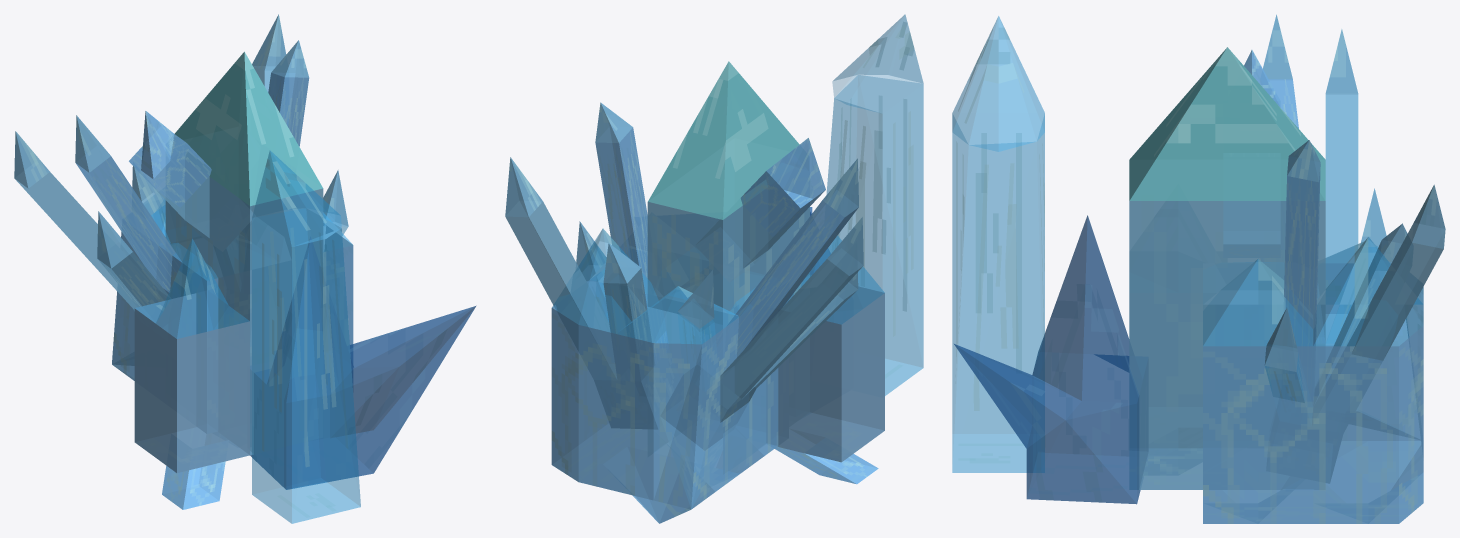
Rendered from crystal.glb.
3 renders of one model, left to right at view 1: azimuth 30°, elevation 25°; view 2: azimuth 150°, elevation 25°; view 3: azimuth 270°, elevation 25°, orthographic. The views are drawn at different scales.
Parts seen in each view (by area): view 1: crystal; view 2: crystal; view 3: crystal.
Part boxes in pixels (x1,y1,x2,y2): crystal: (14,14,476,523); crystal: (505,14,923,523); crystal: (952,14,1445,523).
Size of the model in its own units: 14.01 by 15.97 by 15.09.
1 material, 1 textured.
